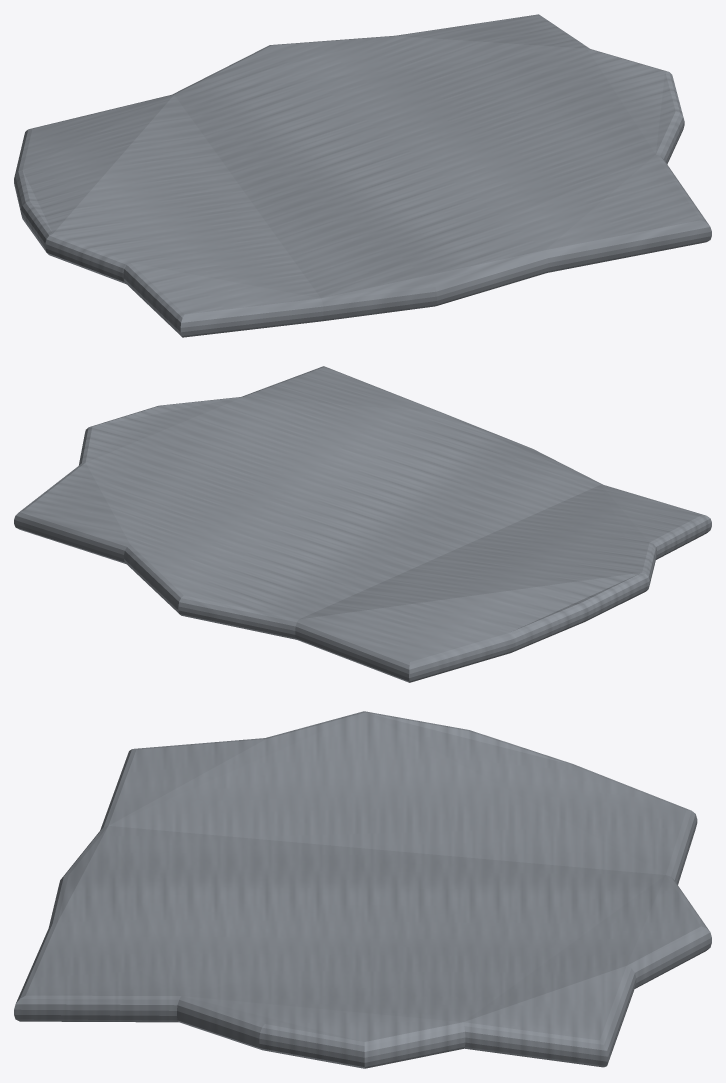
Rendered from wolf_pelt.glb.
The picture shows the model from 3 angles, top to bottom: view 1: azimuth 30°, elevation 25°; view 2: azimuth 150°, elevation 25°; view 3: azimuth 270°, elevation 25°; orthographic projection. The views are drawn at different scales.
Parts seen in each view (by area): view 1: wolf_pelt; view 2: wolf_pelt; view 3: wolf_pelt.
Part boxes in pixels (x1,y1,x2,y2): wolf_pelt: [14, 14, 711, 337]; wolf_pelt: [14, 366, 711, 682]; wolf_pelt: [14, 711, 711, 1068].
Size of the model in its own units: 0.5989 by 0.056 by 0.4995.
1 material, 1 textured.
